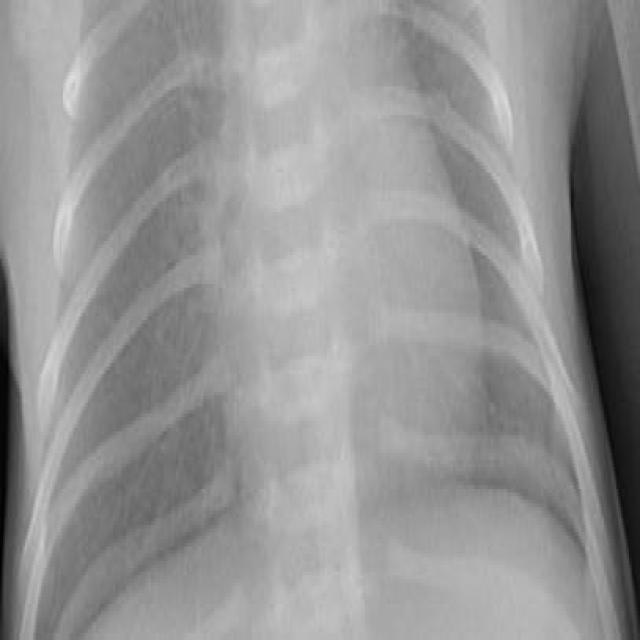low-pneumonia: (90, 1, 242, 541)
